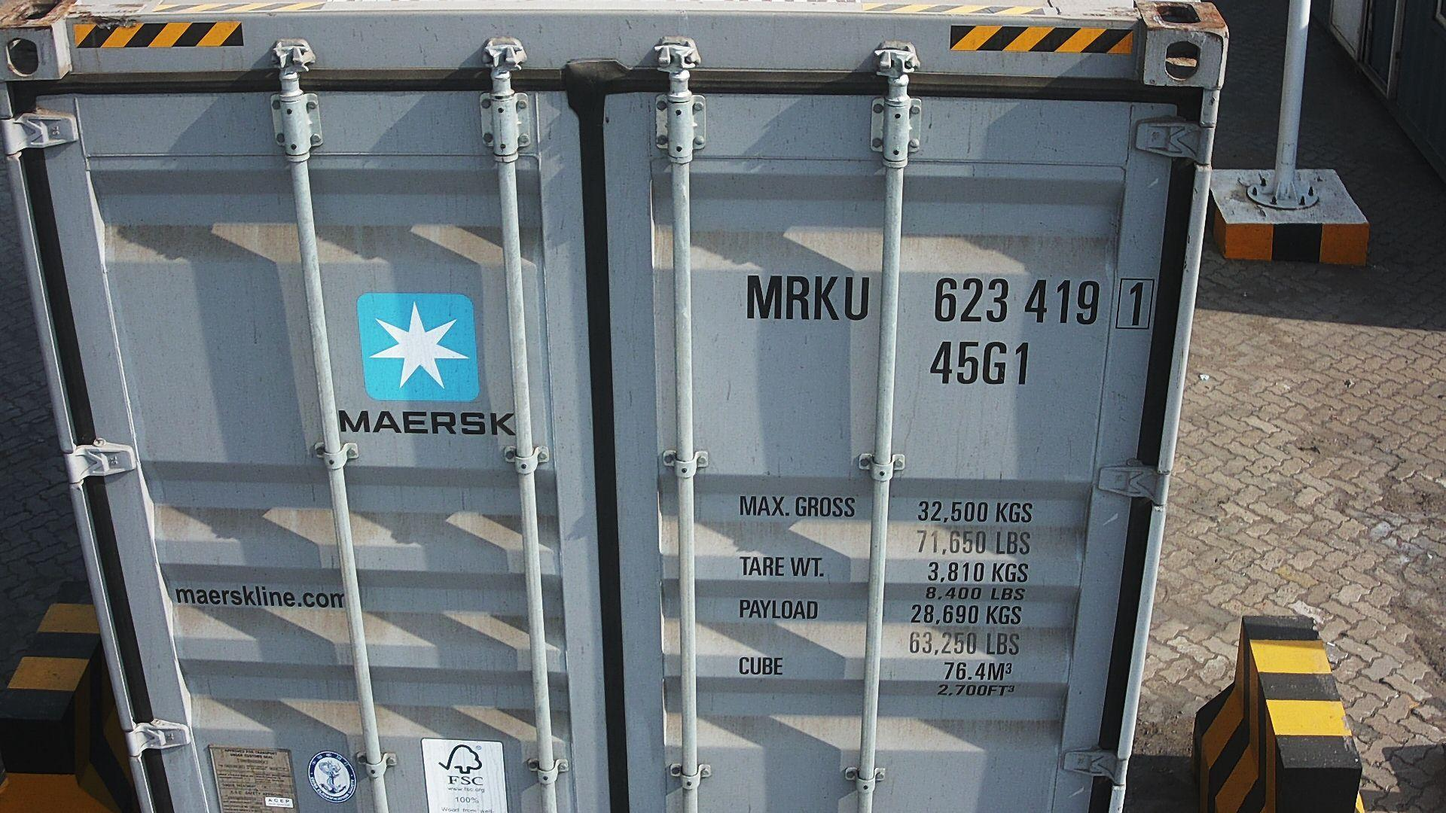container-numbers: (733, 272, 1160, 334), (925, 338, 1035, 391)
